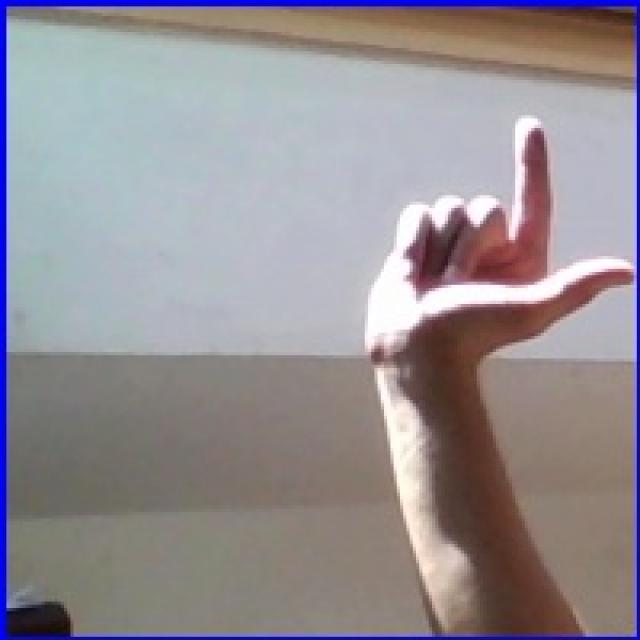Letra L: (338, 81, 634, 432)
